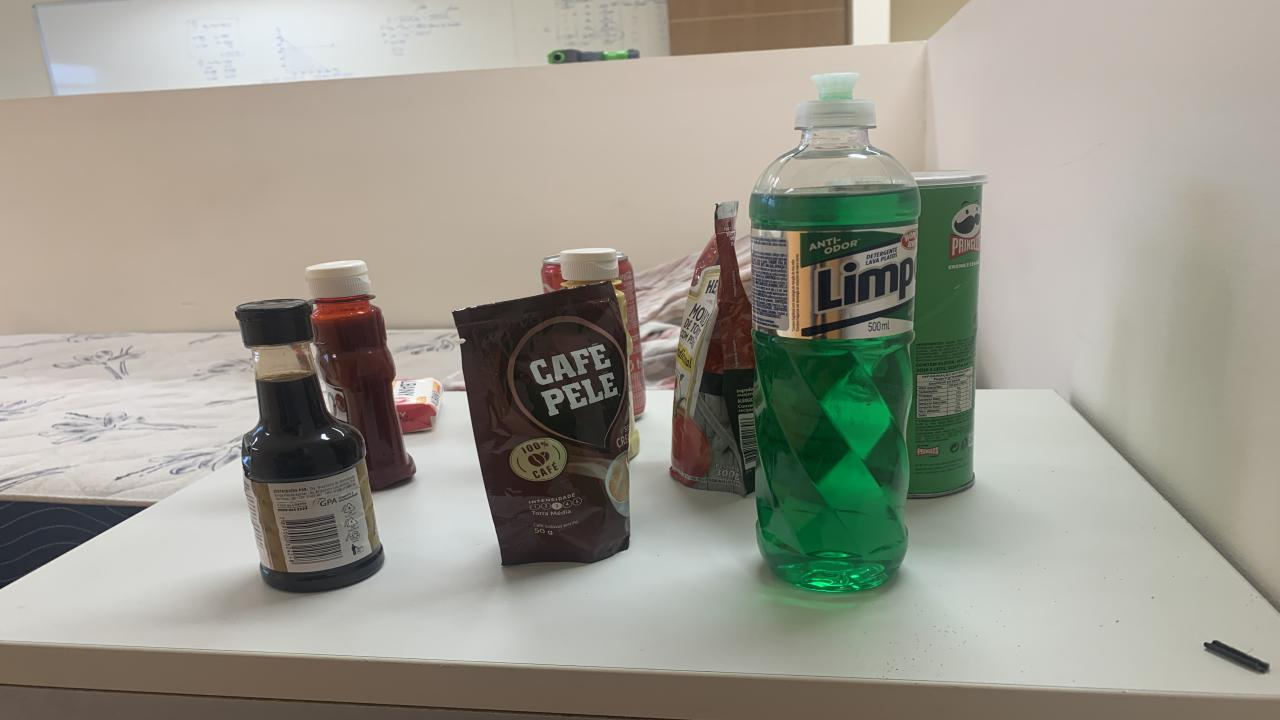Coffee-Pantry_Items: (452, 283, 630, 564)
Coke-Drinks: (615, 251, 645, 414), (540, 255, 565, 292), (632, 428, 638, 456)
Detergent-Cleanup_Items: (750, 73, 920, 592)
English_Sauce-Pantry_Items: (238, 300, 385, 592)
Ketchup-Pantry_Items: (305, 261, 415, 489)
Mustard-Pantry_Items: (560, 248, 620, 287)
Pringles-Snacks: (908, 171, 988, 499)
Soap-Cleanup_Items: (392, 377, 442, 433)
Tomato_Sauce-Pantry_Items: (670, 202, 758, 495)
